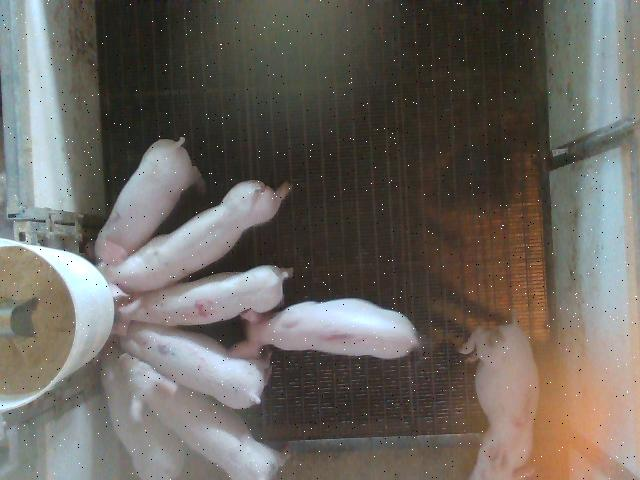pig-1: (229, 299, 419, 359)
pig-3: (460, 322, 539, 478)
pig-4: (119, 265, 291, 326)
